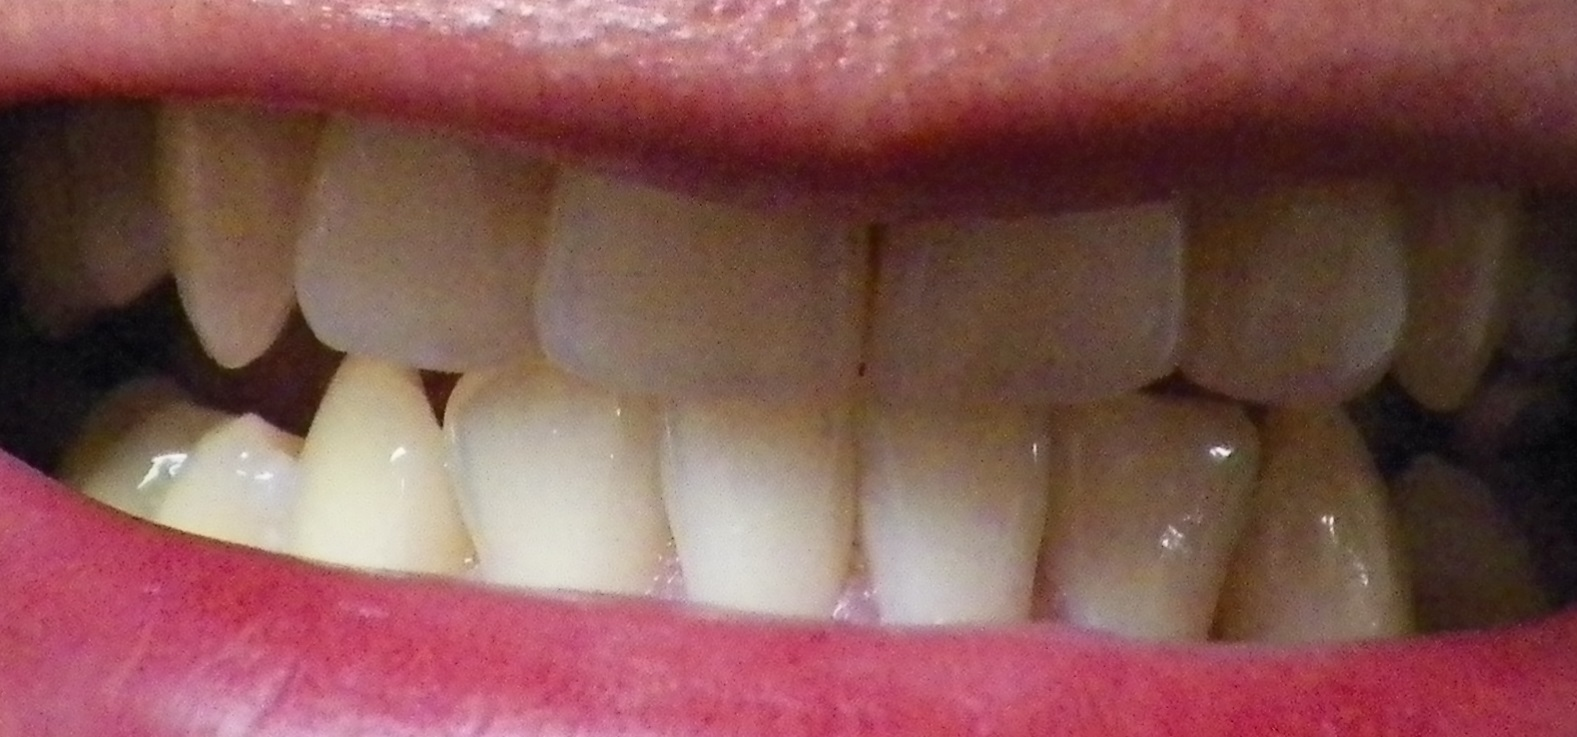boca: (6, 108, 1577, 626)
